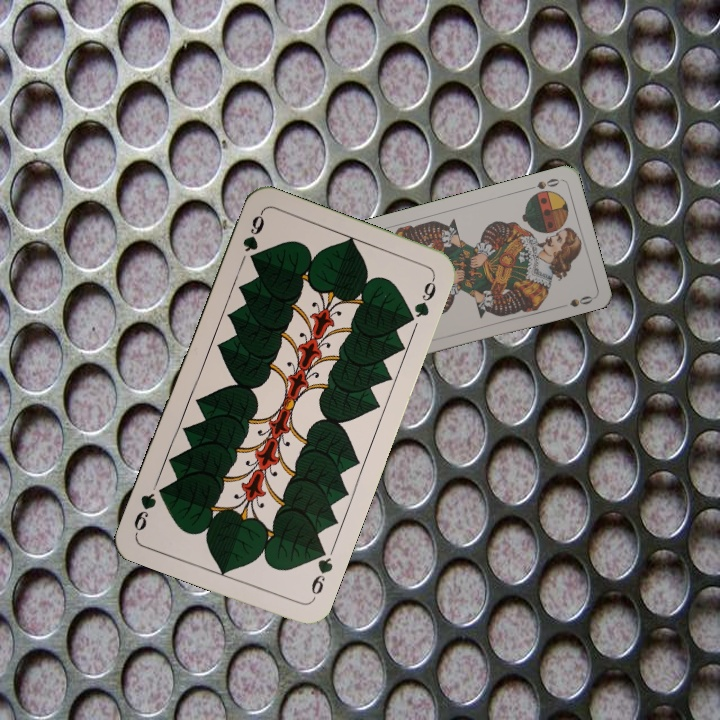G9: (307, 542, 336, 603), (238, 209, 267, 254)
SO: (524, 174, 564, 192)
